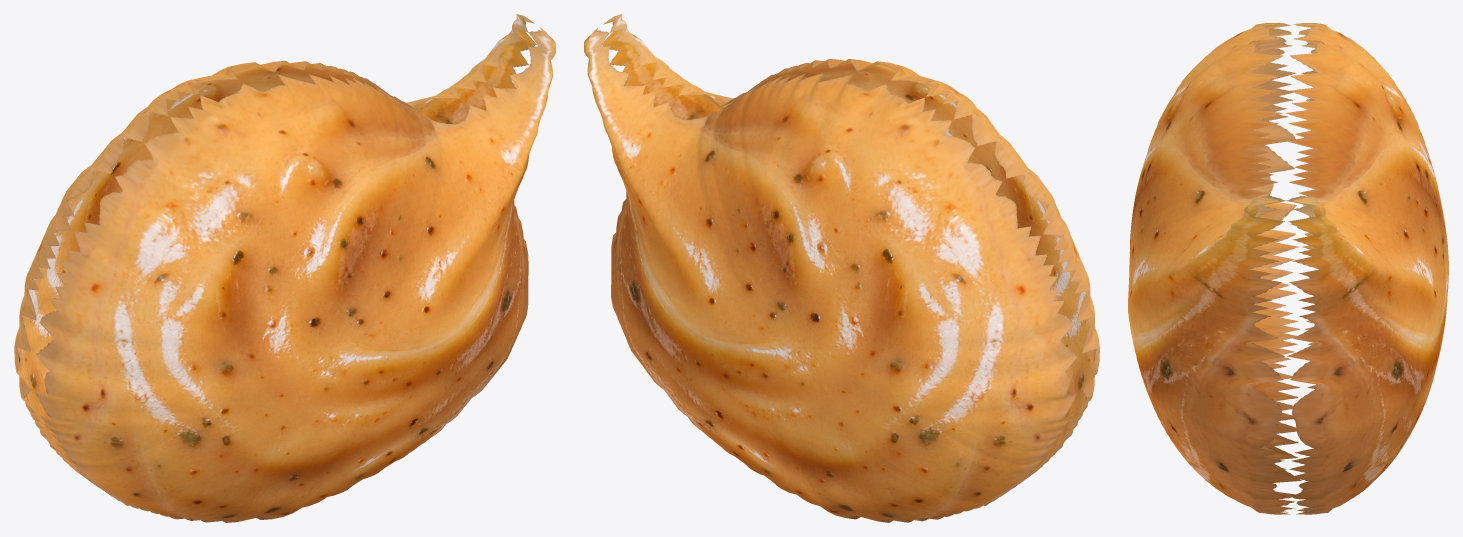
File: salsa-casa.glb
3 renders of one model, left to right at view 1: azimuth 30°, elevation 25°; view 2: azimuth 150°, elevation 25°; view 3: azimuth 270°, elevation 25°, orthographic. The views are drawn at different scales.
Parts seen in each view (by area): view 1: salsa-casa; view 2: salsa-casa; view 3: salsa-casa.
Boxes of the visible parts, <box> form: salsa-casa: <box>14,14,555,522</box>; salsa-casa: <box>584,14,1099,522</box>; salsa-casa: <box>1128,23,1448,514</box>.
Bounding box in the file's own units: 1.98 × 1.65 × 1.07.
1 material, 1 textured.
